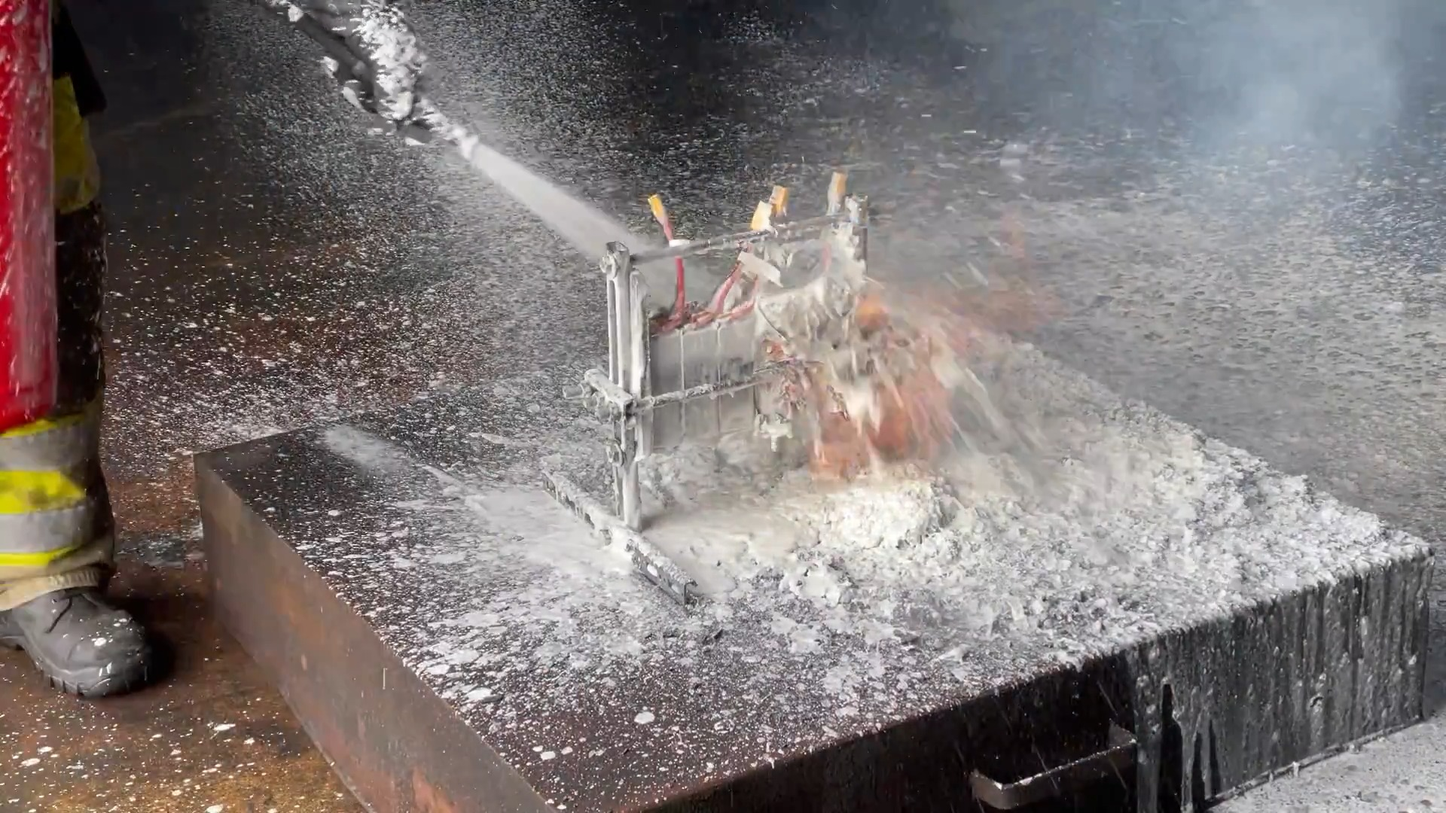fire: (798, 276, 982, 489)
smoke: (880, 1, 1315, 288)
